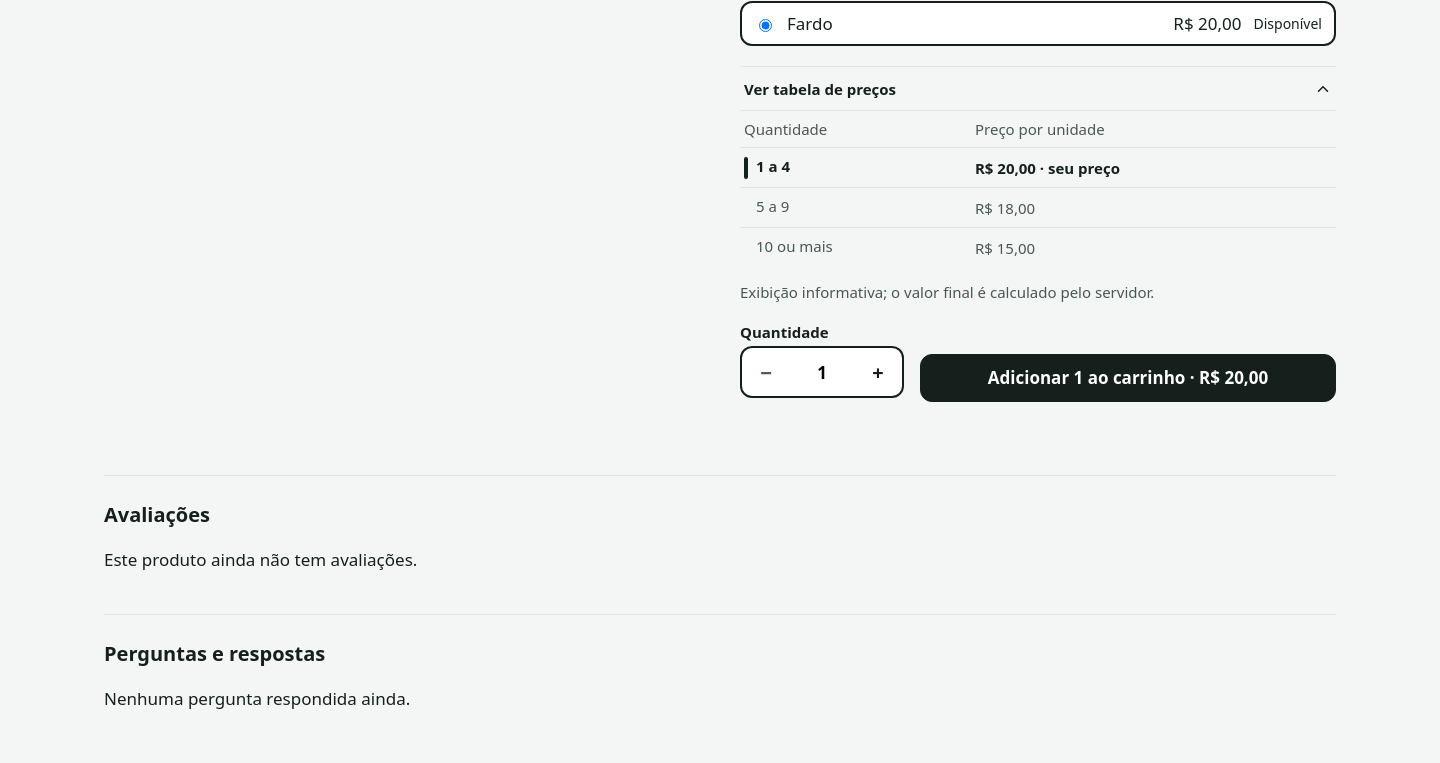
Test: preço na página do produto › CTA mostra quantidade e total sem plural do nome da variação
(page scrolled)
Click the button named "Aumentar quantidade" at x=878, y=372, box top-left (854, 348), bottom-right (902, 396)
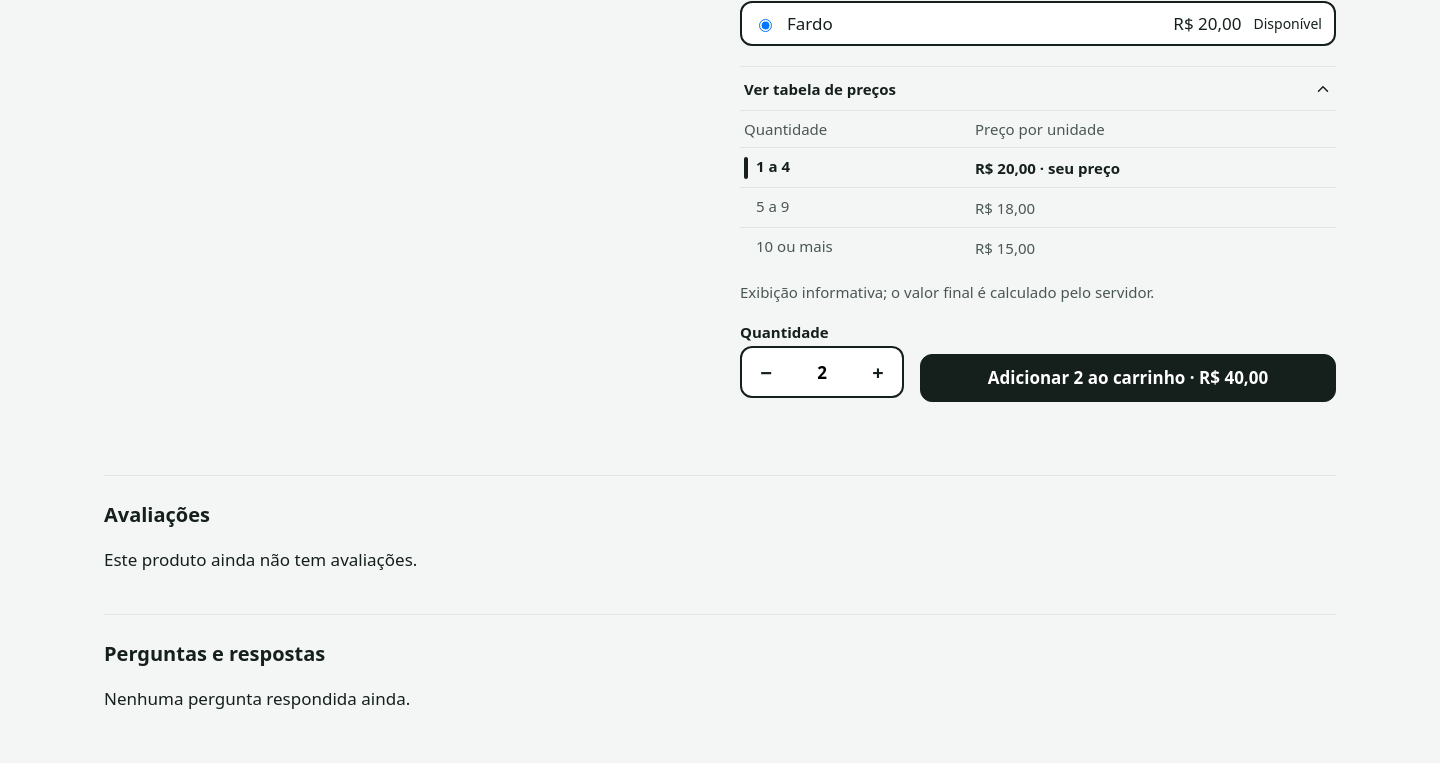
Expected: the label "Quantidade" is shown, top-left (740, 322), bottom-right (829, 342)
Now the button "Adicionar 2 ao carrinho · R$ 40,00" is shown, box top-left (920, 354), bottom-right (1336, 402)
